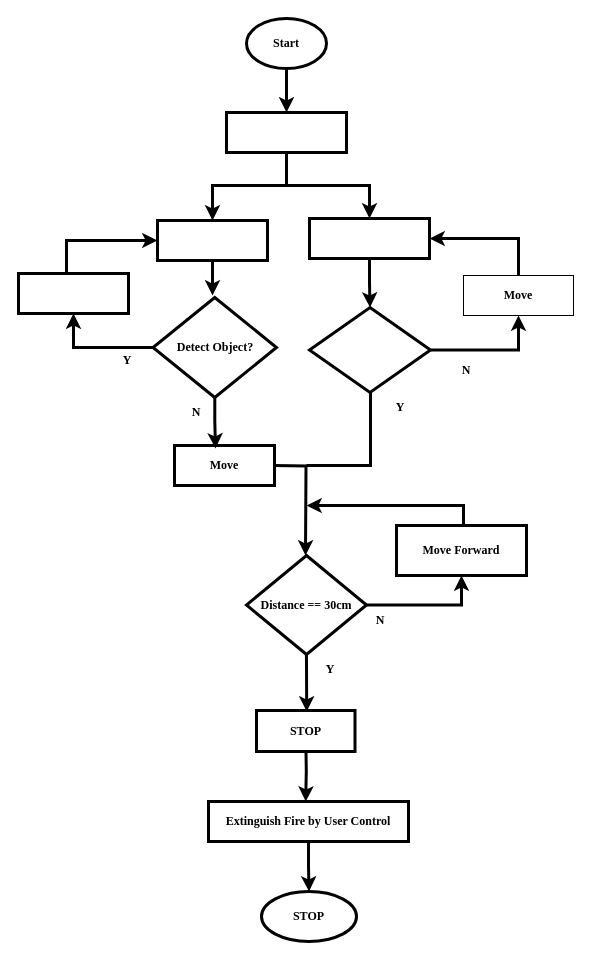
This 591x960 diagram has some shape labels left out. The shapes that lost their labels are listed below. From the top down, each one's box as (x1, y1, x2, y2) in pixels, then its label:
(224, 110, 348, 154): Motor Run
(156, 218, 268, 262): Ultrasonic Sensor
(308, 216, 430, 260): Flame Sensor
(16, 272, 130, 314): Right Rotate
(308, 306, 432, 394): Detect Flame?
